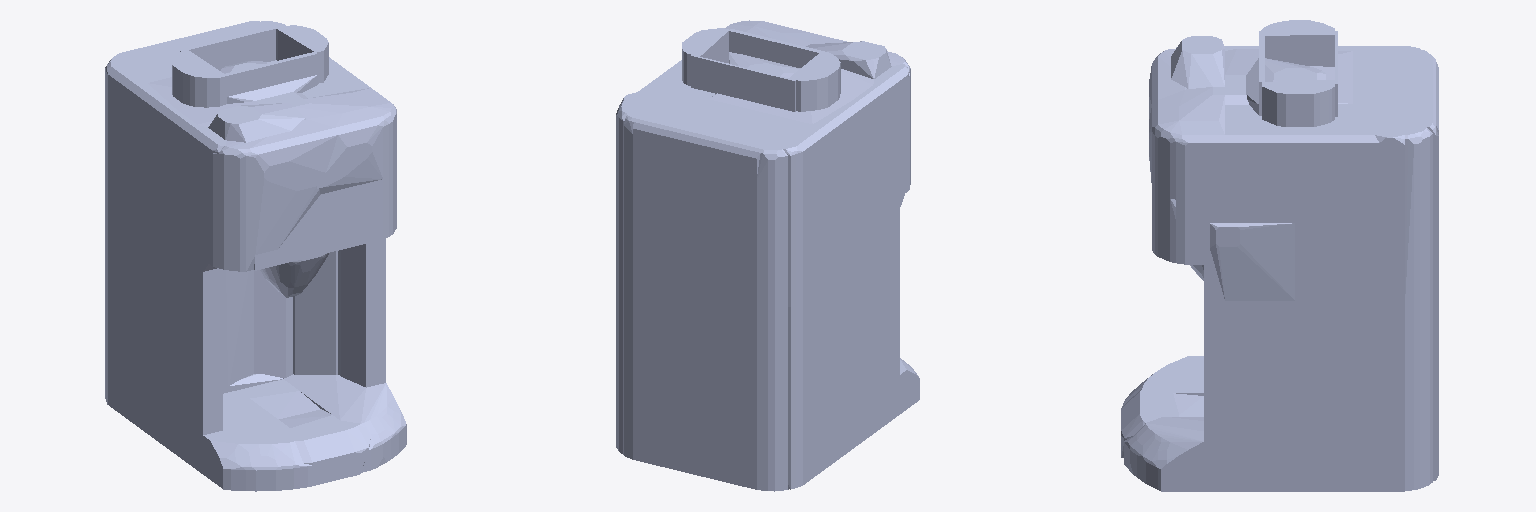
URDF robot description (coffee_machine):
<?xml version="1.0" encoding="utf-8"?>
<!-- This URDF was automatically created by SolidWorks to URDF Exporter! Originally created by [author] ([email redacted]) 
     Commit Version: 1.6.0-4-g7f85cfe  Build Version: 1.6.7995.38578
     For more information, please see http://wiki.ros.org/sw_urdf_exporter -->
<robot
  name="coffee_machine">
  <material name="Coffee">
    <color rgba="0.79216 0.81961 0.93333 1" />
  </material>
  <!-- 0.79216 0.81961 0.93333 1 -->
  <!-- 0.37647 0.37647 0.37647 1 -->
  <link
    name="base_link">
    <inertial>
      <origin
        xyz="-1.1961E-05 0.019442 -0.0018212"
        rpy="0 0 0" />
      <mass
        value="16.417" />
      <inertia
        ixx="0.30055"
        ixy="0.00028612"
        ixz="0.00014651"
        iyy="0.14841"
        iyz="-0.013681"
        izz="0.27484" />
    </inertial>
    <visual>
      <origin
        xyz="0 0 0"
        rpy="0 0 0" />
      <geometry>
        <mesh
          filename="package://coffee_machine/meshes/base_link.obj" />
      </geometry>
      <material
        name="Coffee">
      </material>
    </visual>
    <collision>
      <origin
        xyz="0 0 0"
        rpy="0 0 0" />
      <geometry>
        <mesh
          filename="package://coffee_machine/meshes/base_link.obj" />
      </geometry>
    </collision>
  </link>
</robot>

--- Render facts (derived) ---
Views: 3 orthographic renders of the robot side by side, from view 1: azimuth 30°, elevation 25°; view 2: azimuth 150°, elevation 25°; view 3: azimuth 270°, elevation 25°.
Model coffee_machine with 1 links and 0 joints (none), rooted at base_link, posed all joints at 0.
Links seen in each view (by area): view 1: base_link; view 2: base_link; view 3: base_link.
Boxes of the visible links, <box> form: base_link: <box>105,21,406,491</box>; base_link: <box>616,20,919,491</box>; base_link: <box>1121,20,1438,491</box>.
Bounding box of the posed robot: 0.2163 × 0.304 × 0.418 m (x, y, z).
Meshes: 1 distinct files referenced, 1 mesh visuals loaded (1 OBJ).